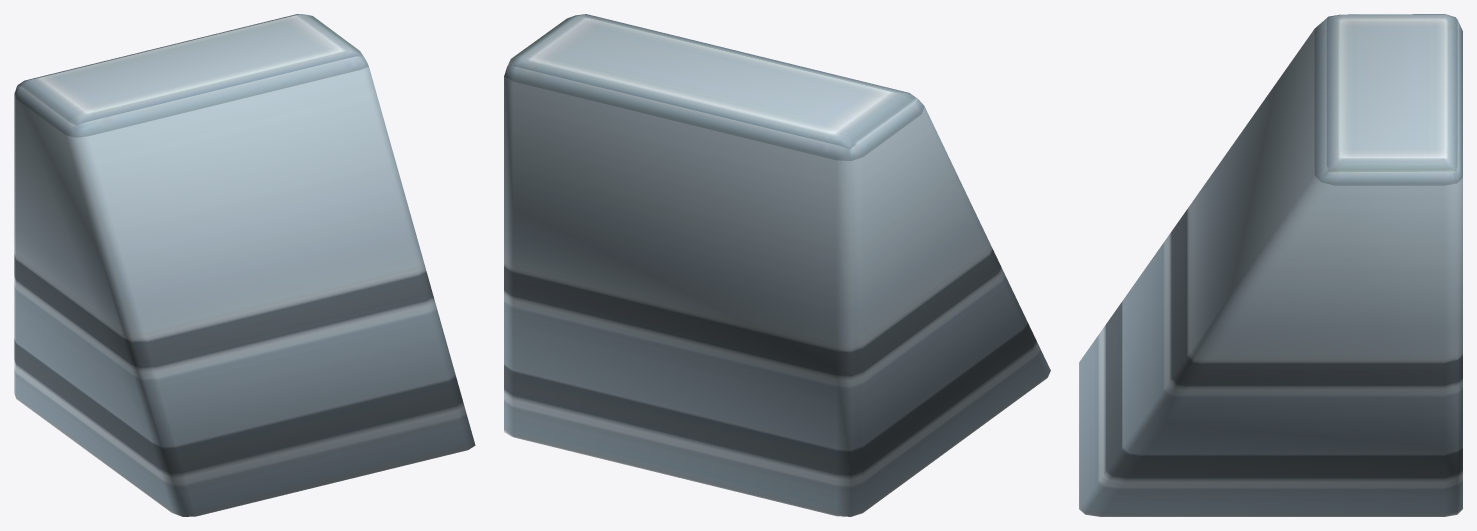
The model's file is wall.obj.
3 renders of one model, left to right at view 1: azimuth 30°, elevation 25°; view 2: azimuth 150°, elevation 25°; view 3: azimuth 270°, elevation 25°, orthographic. The views are drawn at different scales.
Parts seen in each view (by area): view 1: wall_Cube; view 2: wall_Cube; view 3: wall_Cube.
Part boxes in pixels (x1=…): wall_Cube: x1=14, y1=14, x2=475, y2=516; wall_Cube: x1=504, y1=14, x2=1050, y2=516; wall_Cube: x1=1079, y1=14, x2=1462, y2=516.
Size of the model in its own units: 2 by 2 by 2.
Materials: 1 (1 with a texture image).
